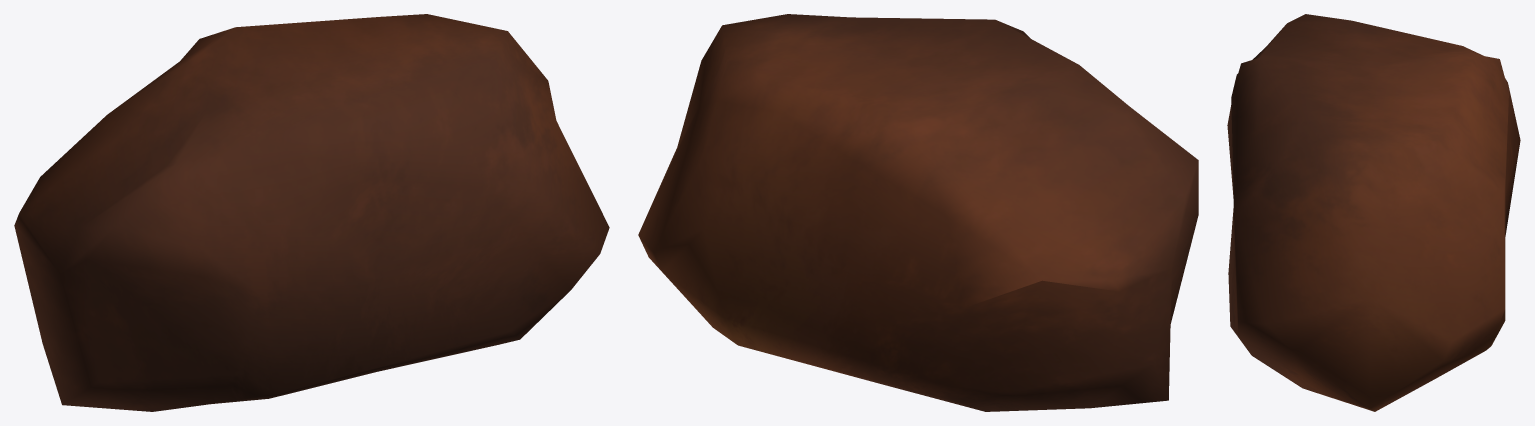
The model's file is kivi.fbx.
3 views of the same model, side by side, from view 1: azimuth 30°, elevation 25°; view 2: azimuth 150°, elevation 25°; view 3: azimuth 270°, elevation 25° (orthographic). The views are drawn at different scales.
Parts seen in each view (by area): view 1: Cube_001; view 2: Cube_001; view 3: Cube_001.
Boxes of the visible parts, <box> form: Cube_001: <box>14,14,609,411</box>; Cube_001: <box>638,14,1198,411</box>; Cube_001: <box>1227,14,1520,411</box>.
Bounding box in the file's own units: 3.95 × 2.17 × 2.28.
Materials: 1 (1 with a texture image).
